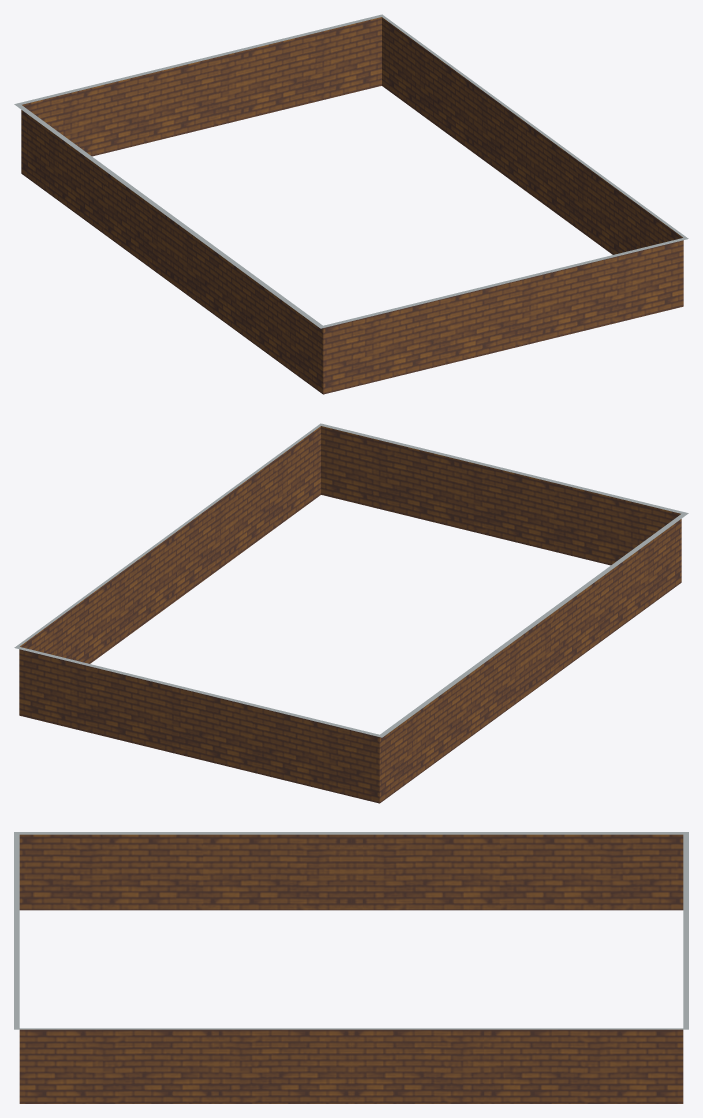
The model's file is ModularVBasementBaseV1.fbx.
3 views of the same model, one above another, from view 1: azimuth 30°, elevation 25°; view 2: azimuth 150°, elevation 25°; view 3: azimuth 270°, elevation 25° (orthographic). The views are drawn at different scales.
Visible parts, largest first — view 1: VBasement_Base_v1_1; view 2: VBasement_Base_v1_1; view 3: VBasement_Base_v1_1.
Part boxes in pixels (<box>): VBasement_Base_v1_1: <box>14,14,688,394</box>; VBasement_Base_v1_1: <box>14,423,688,803</box>; VBasement_Base_v1_1: <box>14,832,688,1103</box>.
Size of the model in its own units: 42.04 by 7.51 by 60.65.
